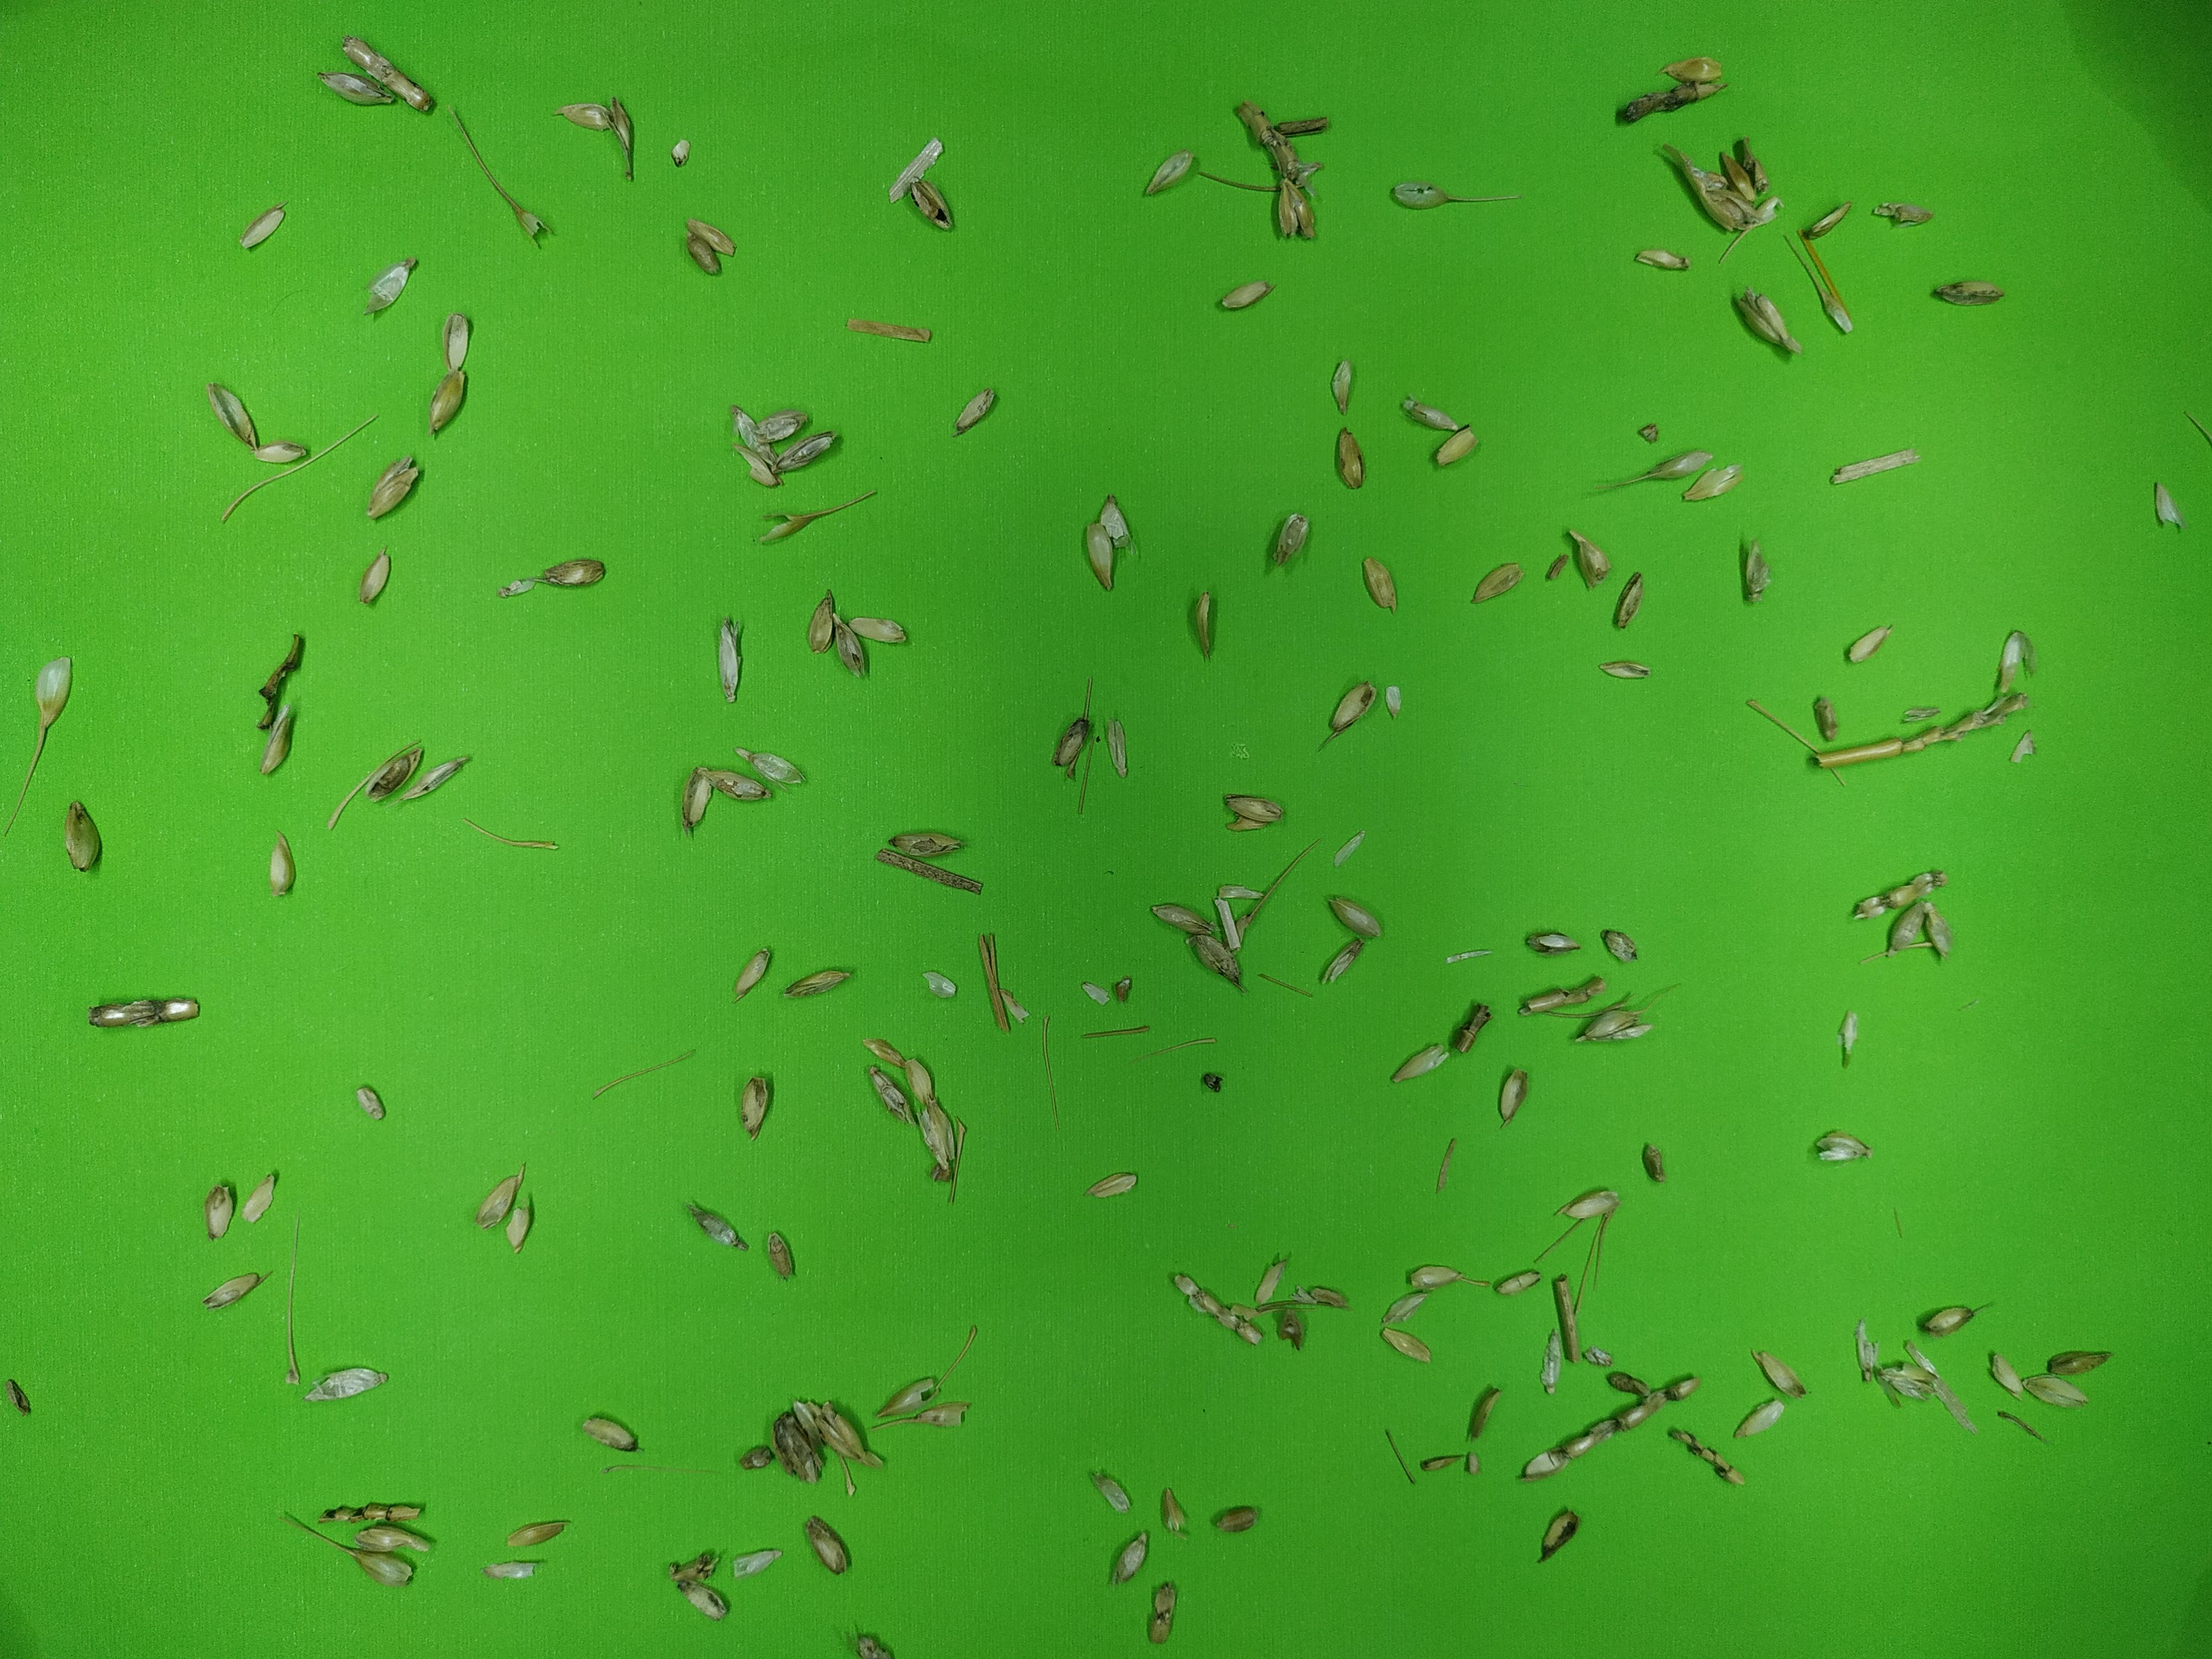impureza: (1517, 1371, 1700, 1481), (1806, 690, 2027, 772), (456, 108, 549, 249), (1237, 99, 1315, 242), (1658, 139, 1745, 235), (897, 1054, 963, 1175), (340, 35, 435, 115), (1785, 228, 1855, 333), (1167, 1270, 1266, 1344), (1247, 833, 1322, 924), (794, 1398, 885, 1471), (759, 488, 876, 542), (587, 1046, 695, 1101), (253, 627, 308, 734), (1728, 284, 1803, 361), (223, 462, 312, 523), (1851, 868, 1949, 920), (1512, 971, 1609, 1023), (364, 448, 432, 523), (1595, 448, 1716, 490), (873, 849, 982, 894), (1613, 78, 1731, 120), (1717, 193, 1782, 267), (87, 992, 204, 1032), (3, 727, 44, 842), (280, 1209, 307, 1385), (975, 929, 1015, 1042), (1388, 176, 1522, 209), (1669, 1425, 1743, 1485), (768, 422, 845, 477), (1186, 925, 1247, 995), (301, 1363, 399, 1406), (477, 1154, 531, 1232), (402, 749, 477, 805), (1829, 444, 1925, 488), (364, 741, 430, 802), (200, 383, 258, 453), (57, 793, 106, 875), (1322, 678, 1376, 751), (890, 131, 944, 202), (1743, 699, 1815, 753), (361, 256, 421, 317), (469, 814, 564, 852), (685, 1197, 747, 1255), (1040, 1012, 1071, 1127), (1568, 1004, 1649, 1047), (315, 1495, 432, 1525), (603, 91, 639, 185), (1562, 523, 1613, 591), (240, 193, 298, 253), (709, 608, 744, 706), (732, 744, 806, 789), (1127, 1033, 1226, 1066), (1737, 530, 1778, 608), (1264, 511, 1312, 580), (1677, 457, 1747, 504), (691, 762, 772, 802), (1928, 270, 2005, 312), (1143, 143, 1202, 197), (932, 1317, 977, 1387), (2015, 1373, 2094, 1413), (1181, 582, 1219, 664), (1750, 1344, 1806, 1399), (862, 1068, 914, 1127), (1923, 1293, 2003, 1331), (799, 1513, 848, 1575), (35, 652, 73, 730), (317, 413, 376, 464), (345, 1549, 416, 1591), (876, 1375, 941, 1420), (780, 1415, 822, 1485), (1996, 620, 2038, 690), (1881, 1361, 1942, 1408), (317, 73, 399, 108), (1808, 1124, 1876, 1166), (726, 404, 775, 462), (1554, 1276, 1583, 1370), (1080, 519, 1116, 594), (265, 701, 301, 775), (1935, 1371, 1975, 1439), (1329, 890, 1385, 939), (324, 769, 369, 828), (730, 945, 775, 1004), (737, 1068, 775, 1138), (582, 1410, 643, 1453), (1052, 714, 1096, 775), (1092, 486, 1132, 552), (1454, 999, 1496, 1061), (803, 582, 840, 653), (2045, 1344, 2120, 1378), (1536, 1507, 1581, 1565), (1075, 676, 1094, 812), (887, 830, 965, 863), (599, 1459, 723, 1480), (355, 1525, 437, 1556), (552, 96, 618, 134), (834, 617, 873, 683), (1144, 899, 1211, 938), (733, 443, 789, 488), (439, 305, 474, 376), (787, 964, 862, 997), (1392, 1040, 1451, 1082), (202, 1270, 261, 1312), (1359, 558, 1400, 617), (749, 406, 813, 444), (286, 1509, 350, 1547), (949, 383, 996, 436), (840, 317, 934, 343), (909, 178, 956, 230), (1848, 617, 1900, 664), (1474, 561, 1527, 606), (1219, 789, 1289, 824), (1467, 1382, 1508, 1439), (1538, 1323, 1569, 1399), (528, 556, 608, 586), (1494, 1065, 1527, 1136), (1325, 354, 1362, 418), (1381, 1286, 1435, 1330), (244, 1168, 282, 1229), (1087, 1466, 1134, 1514), (1559, 1183, 1622, 1220), (1534, 1216, 1587, 1260), (1918, 908, 1959, 962), (1113, 1530, 1153, 1586), (1994, 1405, 2050, 1445), (850, 613, 907, 652), (685, 216, 737, 258), (268, 828, 300, 897), (1148, 1577, 1179, 1645), (1871, 193, 1939, 225), (1662, 54, 1723, 89), (1804, 199, 1853, 242), (1106, 713, 1136, 784), (1404, 1260, 1461, 1297), (1385, 1422, 1416, 1488), (1851, 1316, 1883, 1382), (1613, 568, 1648, 627), (1317, 938, 1362, 983), (498, 1199, 538, 1249), (678, 777, 711, 838), (204, 1178, 237, 1239), (1332, 432, 1367, 490), (1400, 399, 1463, 430), (505, 1518, 571, 1547), (671, 1549, 723, 1586), (1294, 1279, 1352, 1312), (944, 1114, 965, 1204), (1211, 897, 1245, 951), (2144, 483, 2182, 532), (1205, 171, 1282, 195), (1735, 134, 1766, 193), (1721, 148, 1754, 204), (482, 1556, 549, 1584), (1522, 929, 1588, 957), (1987, 1347, 2022, 1399), (1433, 425, 1479, 465), (766, 1229, 798, 1284), (1259, 971, 1315, 1002), (1735, 1399, 1780, 1438), (1217, 279, 1270, 312), (362, 551, 395, 603), (1275, 1305, 1312, 1352), (1885, 906, 1919, 955), (1271, 112, 1336, 138), (1836, 1006, 1862, 1070), (350, 1080, 388, 1124), (1900, 1338, 1944, 1377), (1432, 1134, 1456, 1202), (683, 1584, 730, 1619), (1379, 1330, 1428, 1363), (256, 436, 314, 464), (1595, 925, 1639, 962), (1252, 1258, 1284, 1309), (1085, 1169, 1136, 1201), (1085, 1019, 1153, 1042), (730, 1546, 779, 1577), (921, 965, 958, 1007), (1599, 653, 1648, 683), (1897, 699, 1946, 728), (1155, 1490, 1188, 1534), (1810, 695, 1841, 741), (1214, 1502, 1259, 1534), (1630, 246, 1688, 270), (688, 235, 723, 275), (1332, 828, 1367, 868), (1439, 945, 1500, 967), (920, 1399, 968, 1427), (1494, 1269, 1540, 1298), (995, 986, 1031, 1023), (862, 1035, 902, 1066), (1639, 1143, 1667, 1185), (1420, 1450, 1467, 1474), (5, 1377, 31, 1420), (737, 1443, 775, 1473), (1075, 979, 1113, 1009), (1212, 882, 1270, 901), (664, 136, 697, 169), (1381, 681, 1406, 725), (2008, 732, 2036, 767), (493, 577, 538, 598), (1580, 1345, 1622, 1368), (1193, 1070, 1226, 1096), (1543, 554, 1571, 582), (1115, 976, 1137, 1007), (1635, 422, 1662, 444), (1465, 1448, 1486, 1476), (695, 833, 716, 842)
